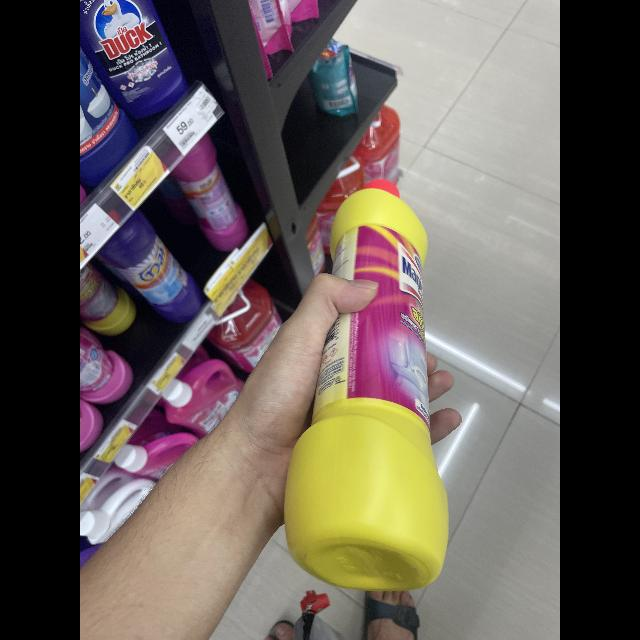chemical_plastic_bottle: (277, 172, 455, 594)
